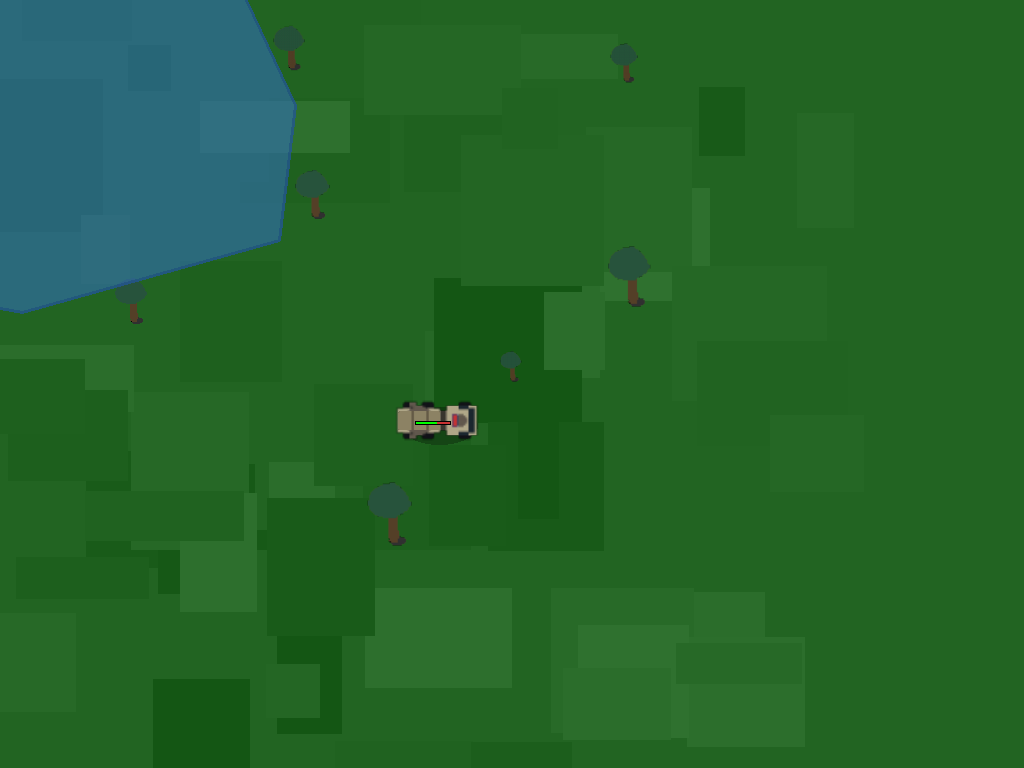HIMARS: (396, 384, 468, 456)
Lake: (0, 0, 295, 312)
